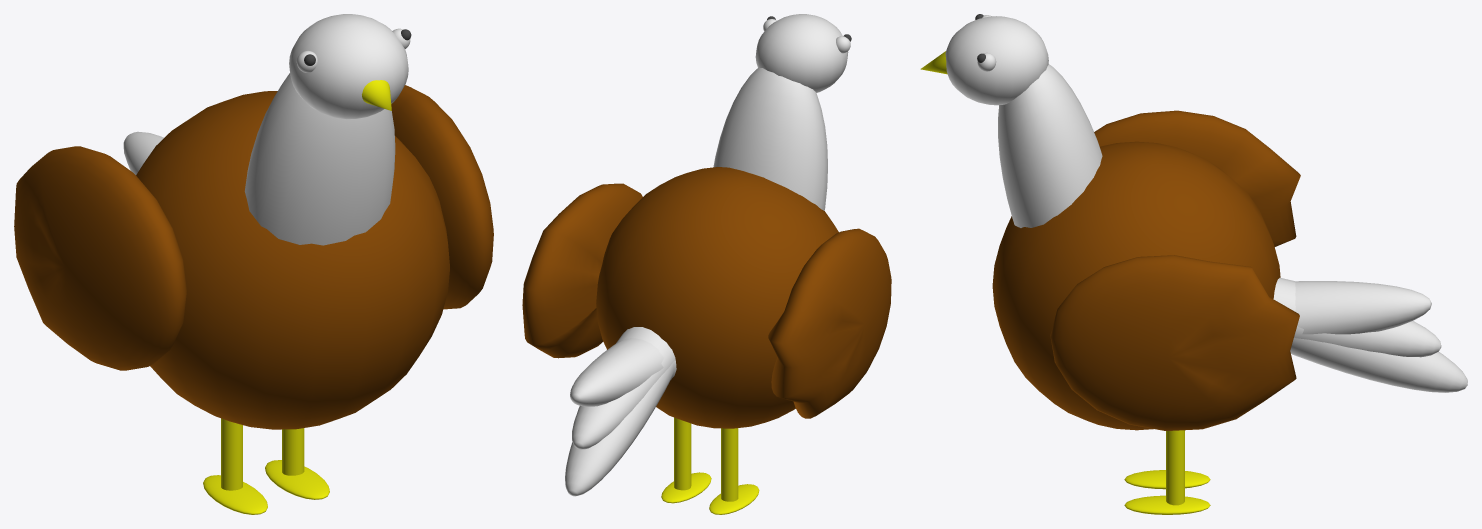
Rendered from Eagle.fbx.
3 views of the same model, side by side, from view 1: azimuth 30°, elevation 25°; view 2: azimuth 150°, elevation 25°; view 3: azimuth 270°, elevation 25° (orthographic). The views are drawn at different scales.
Parts seen in each view (by area): view 1: polySurface2; view 2: polySurface2; view 3: polySurface2.
Boxes of the visible parts, x1,y1,x2,y2 form: polySurface2: (14, 14, 493, 514); polySurface2: (522, 14, 891, 514); polySurface2: (920, 14, 1467, 514).
Size of the model in its own units: 2.69 by 3.58 by 3.79.
